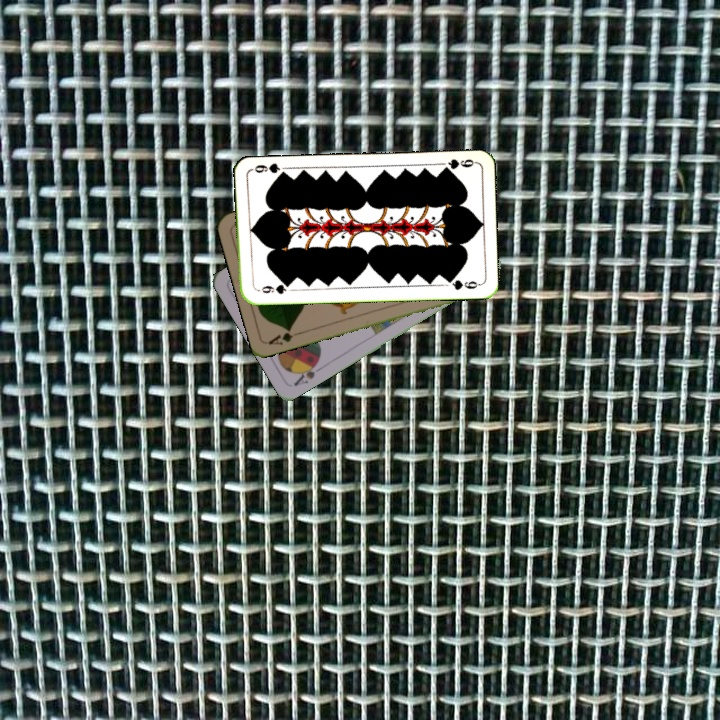G9: (438, 155, 478, 174), (253, 280, 293, 297)
GA: (265, 324, 304, 348)
SA: (289, 357, 326, 389)
